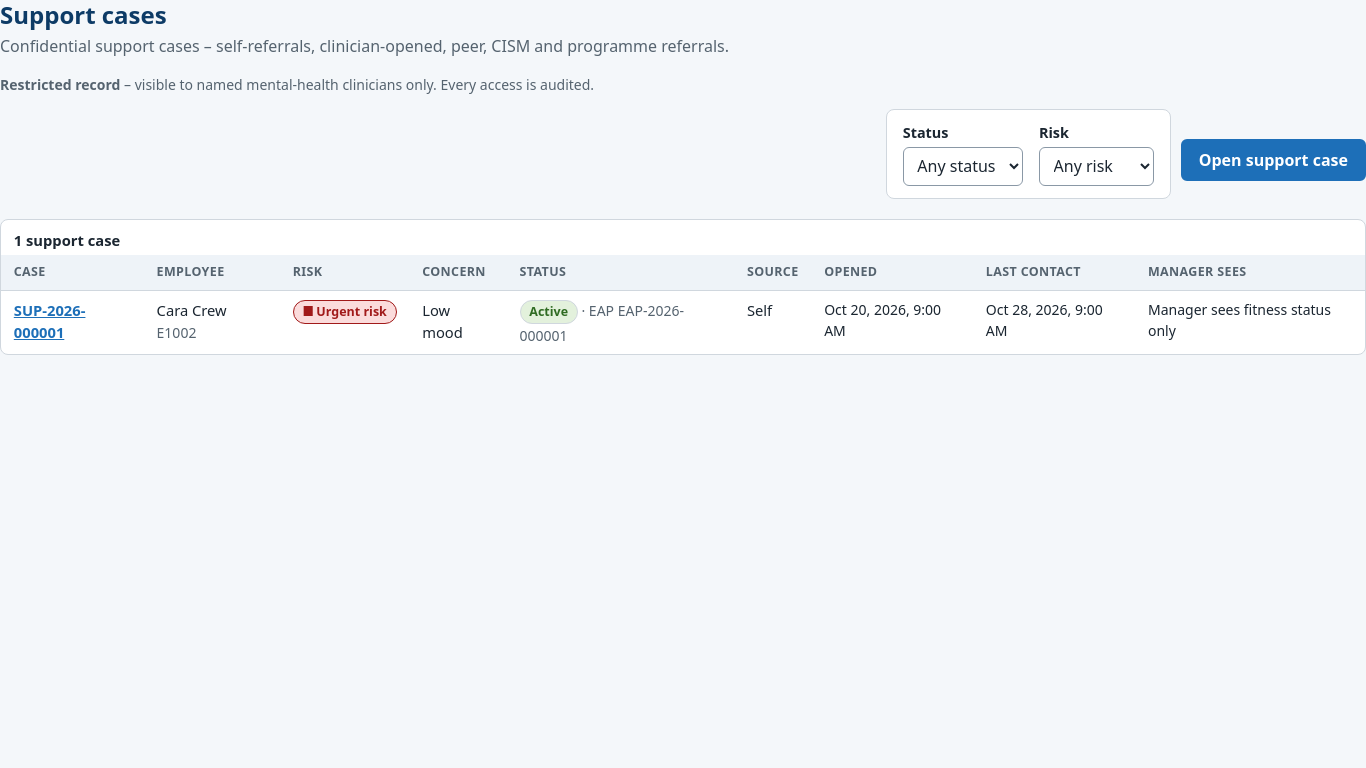
Test: support cases (named clinician) › lists cases with risk, sharing choice and EAP / relief markers and validates a new case
The image size is (1366, 768).
Expected: the row "SUP-2026-000001" shows "Urgent risk", left=1, top=290, right=1365, bottom=354
Expected: the row "SUP-2026-000001" shows "EAP EAP-2026-000001", left=1, top=290, right=1365, bottom=354
Click the button "Open support case".
click(1273, 160)  # box left=1181, top=139, right=1365, bottom=181
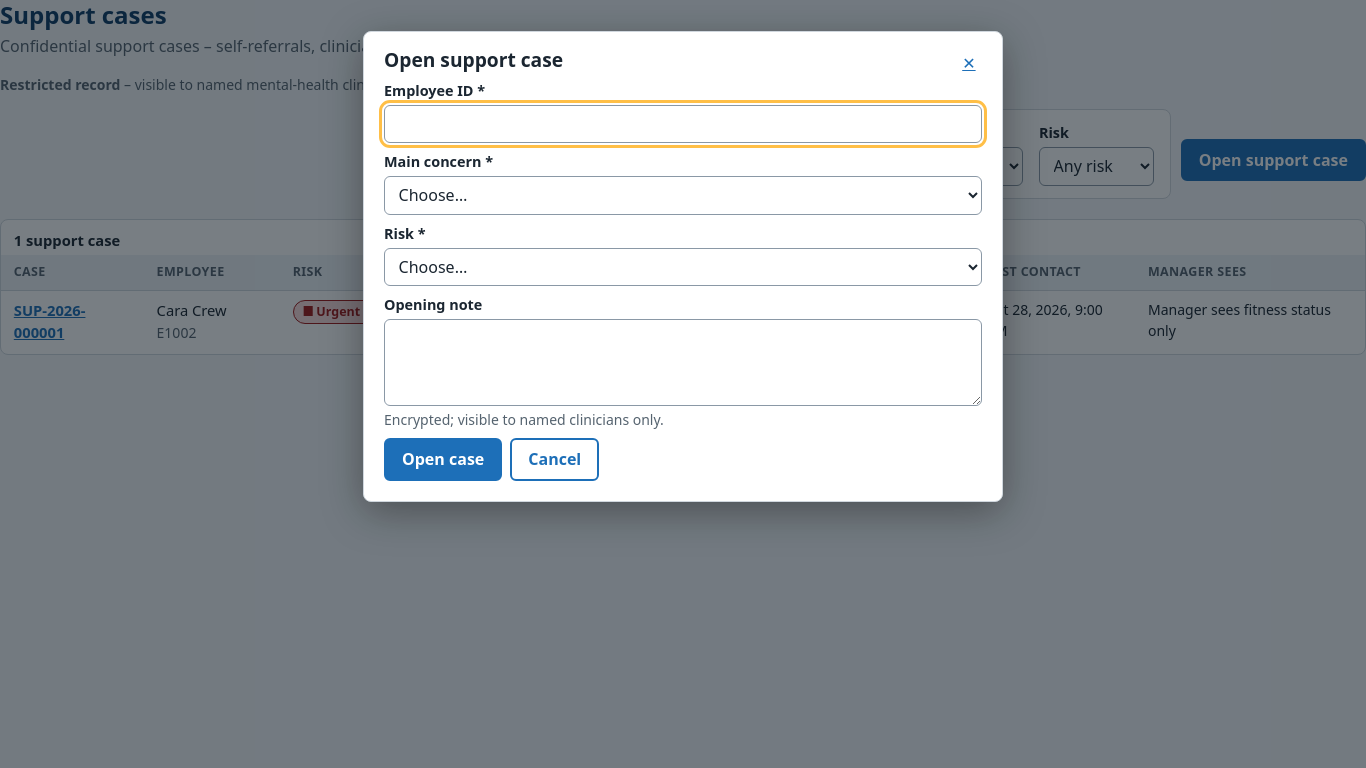
Click the button "Open case".
click(443, 459)  # box left=384, top=438, right=502, bottom=481
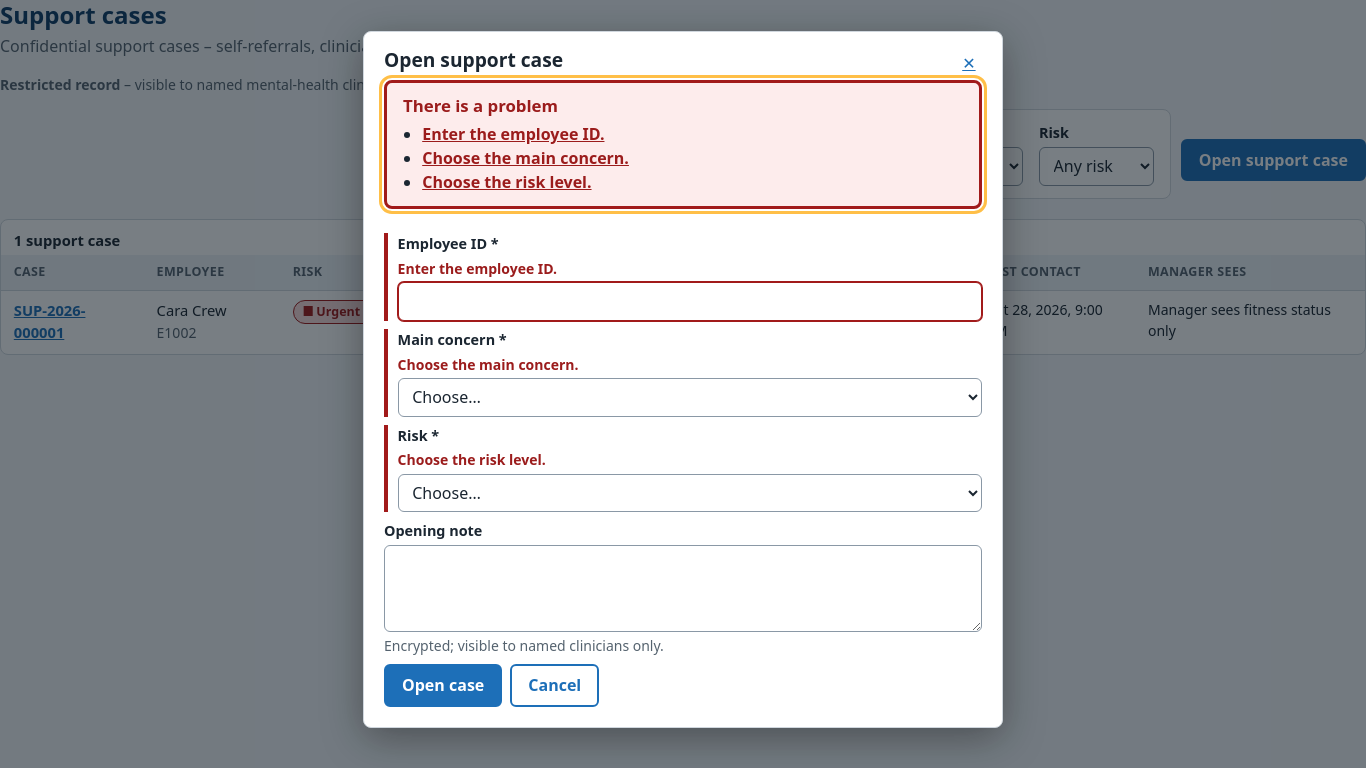
Expected: the link "Enter the employee ID." is shown, left=422, top=123, right=604, bottom=145
